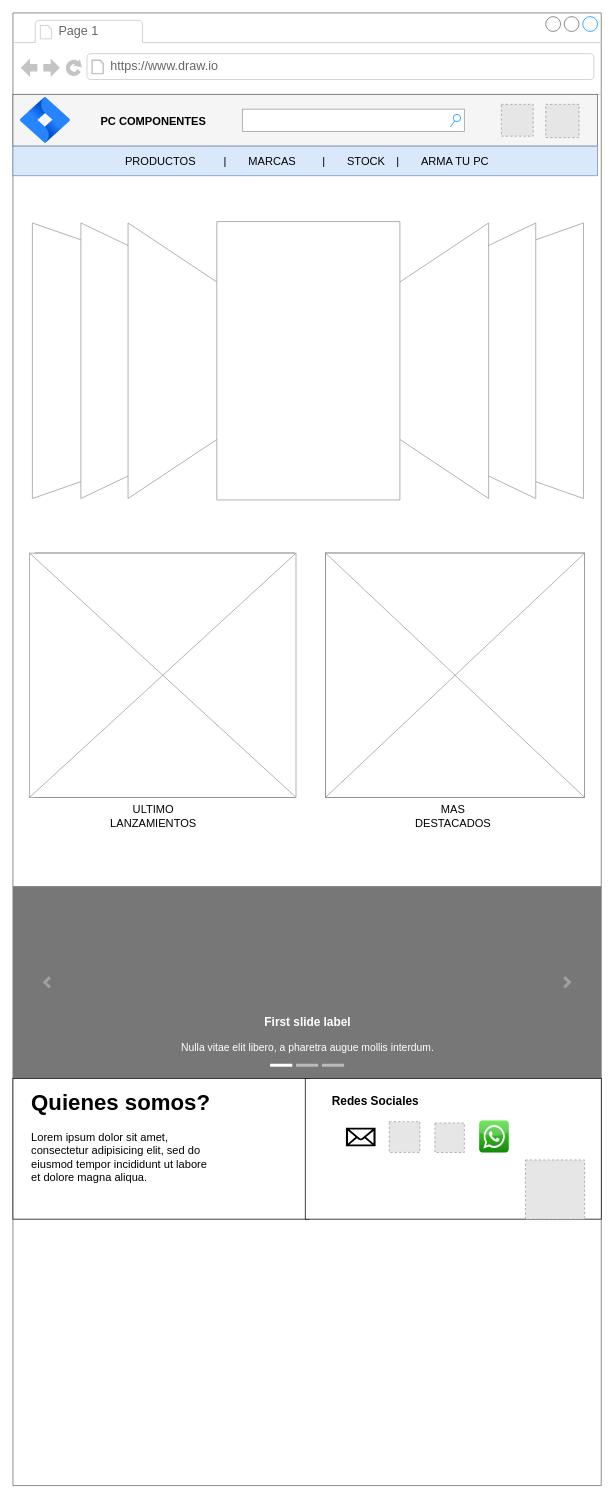
Some shapes in this 614 by 1499 pixel diagram are drawn without their labels. Grey dashed boxes stand in for pictures. Each missing label, with the centre of its shape:
First slide: point 307,982
Search: point 353,119
